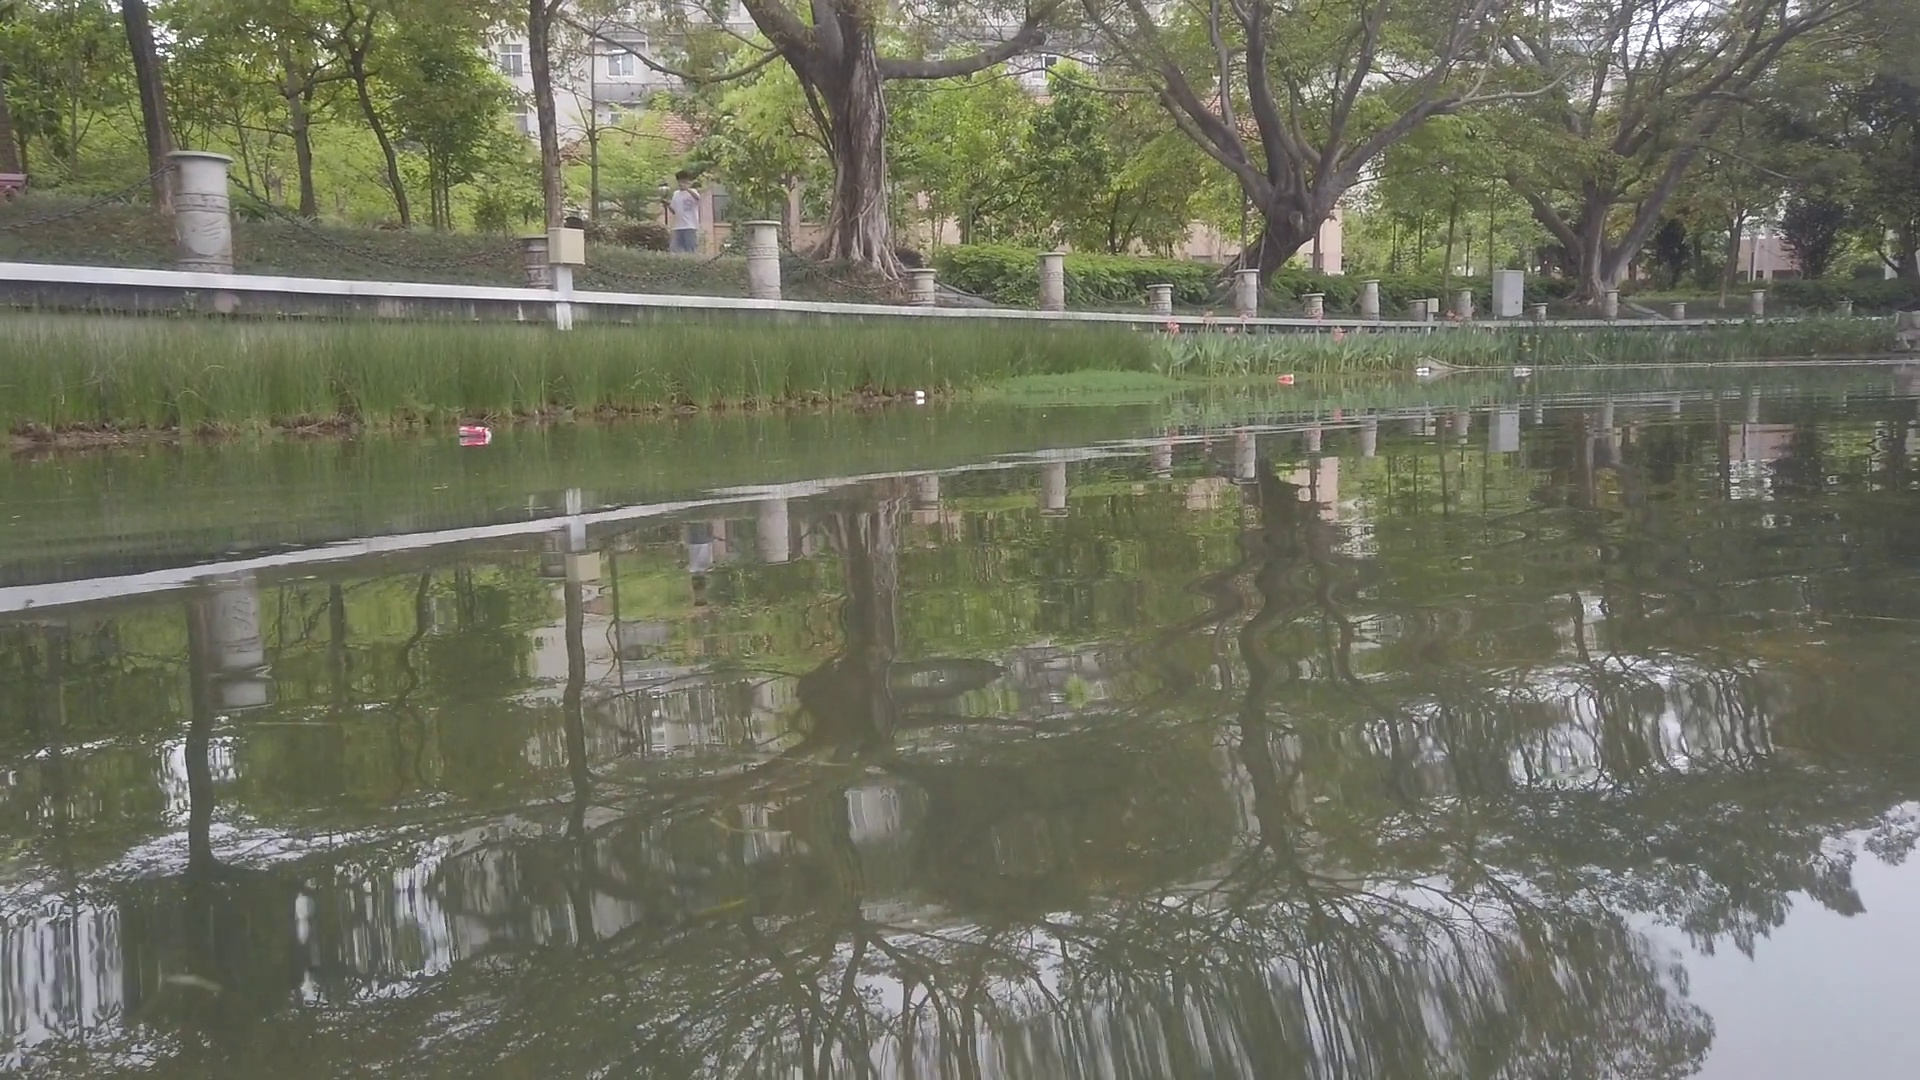bottle: (458, 426, 492, 436), (1278, 375, 1294, 382), (1516, 367, 1532, 375), (1416, 367, 1429, 375)
carton: (915, 390, 924, 402)
